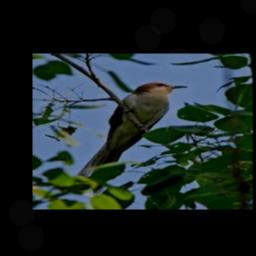Cuckoo: (78, 82, 188, 193)
